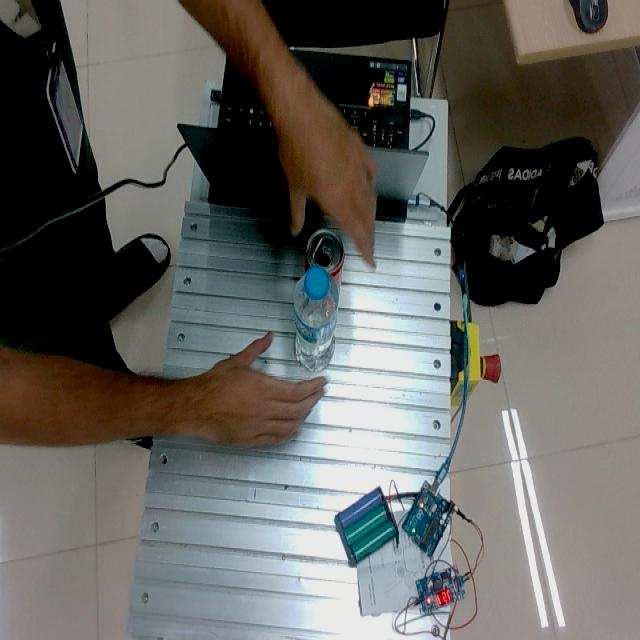coca: (305, 228, 345, 297)
lavie: (293, 264, 340, 373)
